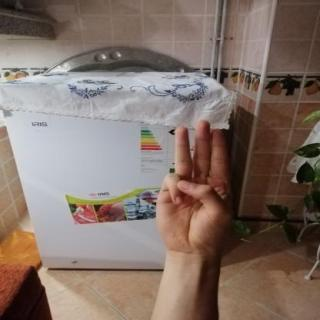THA: (144, 111, 247, 264)
